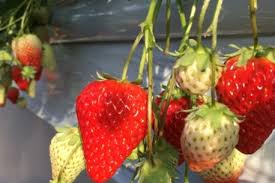ripe: (74, 76, 154, 181), (219, 41, 274, 154), (152, 80, 201, 155)
unripe: (180, 101, 241, 171), (42, 119, 99, 183), (175, 46, 221, 97), (200, 149, 260, 181), (9, 33, 45, 83)
